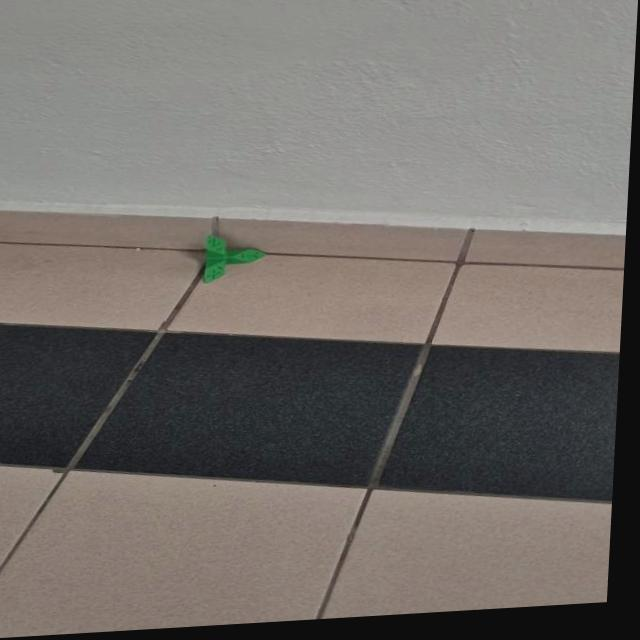eje: (201, 230, 270, 285)
